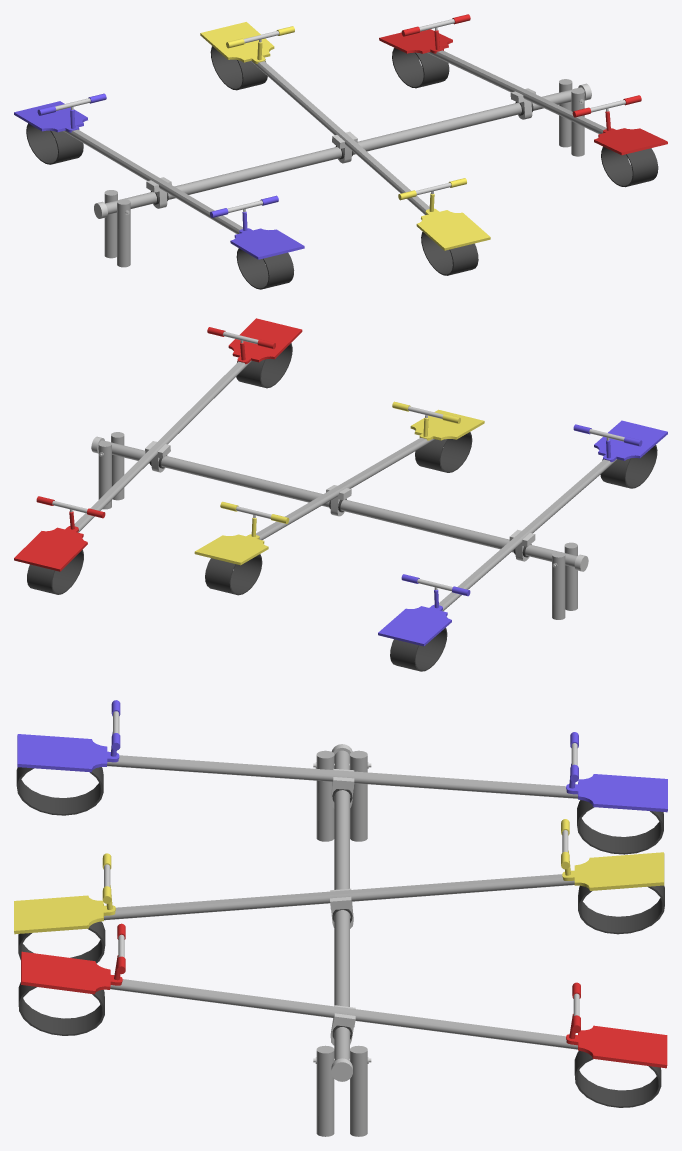
File: Kacheli_2.fbx
3 views of the same model, one above another, from view 1: azimuth 30°, elevation 25°; view 2: azimuth 150°, elevation 25°; view 3: azimuth 270°, elevation 25° (orthographic). The views are drawn at different scales.
Parts seen in each view (by area): view 1: Kacheli_2; view 2: Kacheli_2; view 3: Kacheli_2.
Part boxes in pixels (<box>): Kacheli_2: <box>14,14,667,289</box>; Kacheli_2: <box>14,318,667,671</box>; Kacheli_2: <box>14,700,667,1136</box>.
Size of the model in its own units: 391 by 90.11 by 340.
